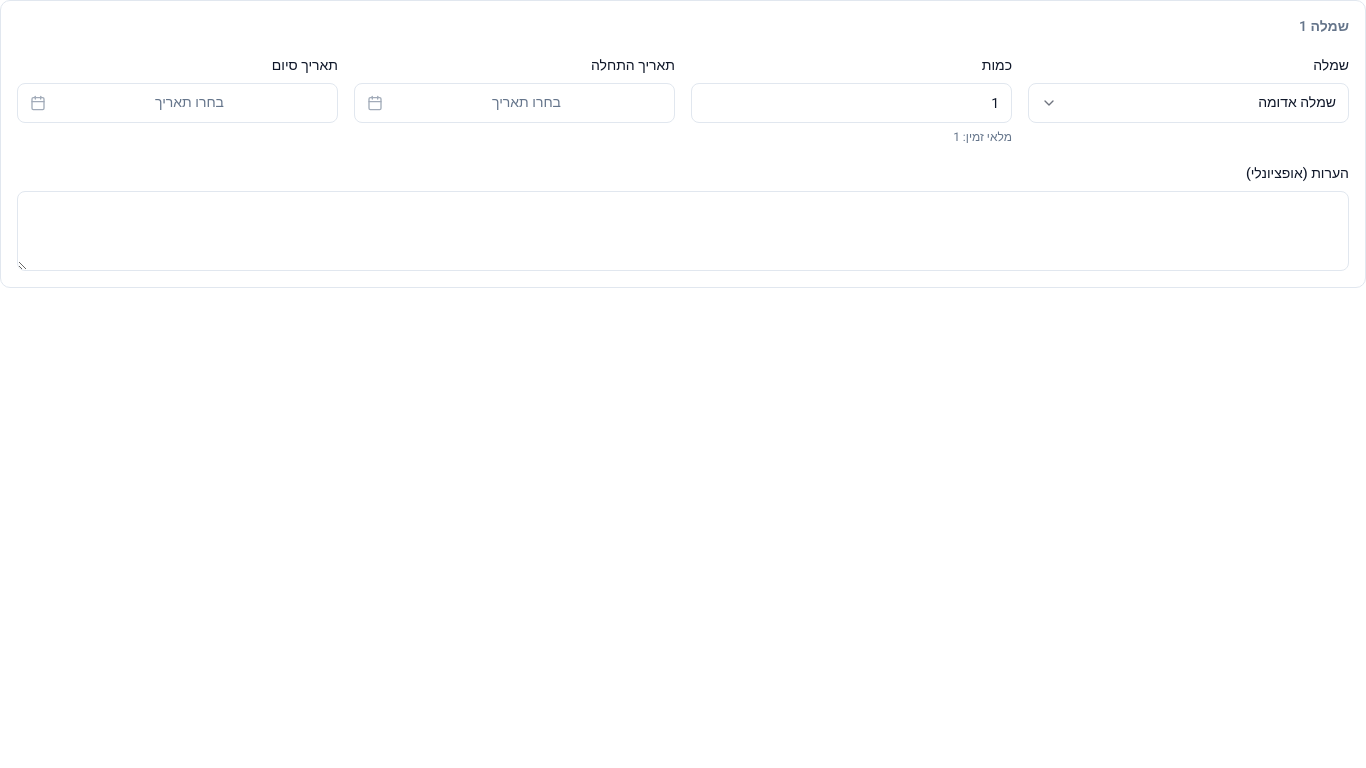
Test: DressRow › enables date pickers and shows the calendar legend when reservations are ready
Click the button named "תאריך התחלה" at (514, 103), box [354, 83, 675, 123]
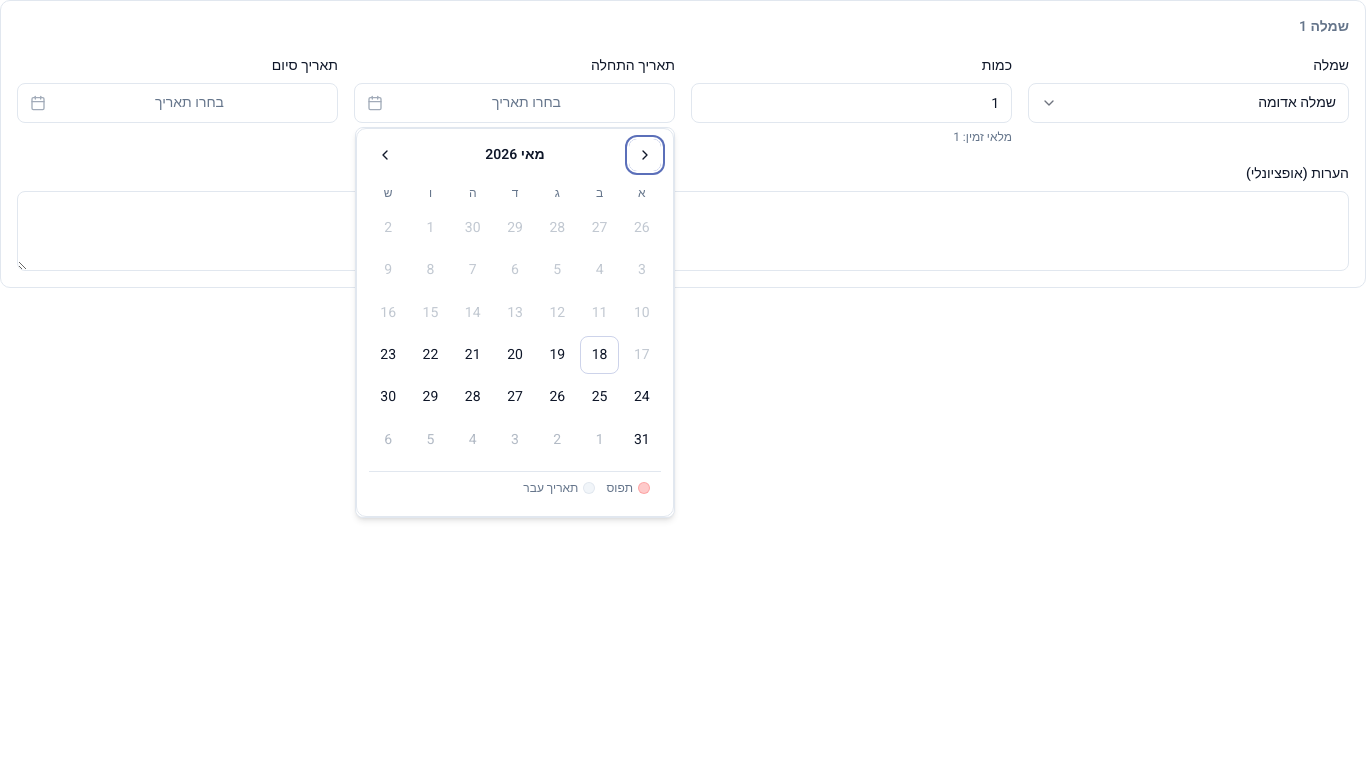
Check: the text "תפוס" is shown, box [606, 480, 649, 496]
Check: the text "תאריך עבר" is shown, box [523, 480, 594, 496]
